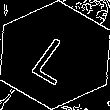L_NE: (25, 26, 85, 84)
